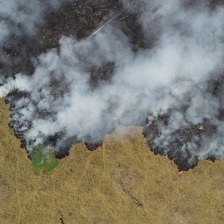incendio: (1, 37, 221, 171)
